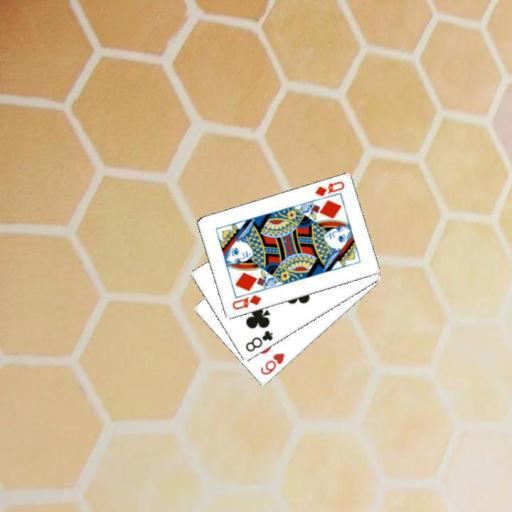6H: (257, 350, 286, 377)
8C: (242, 328, 274, 353)
QD: (229, 292, 263, 312), (312, 179, 346, 199)
